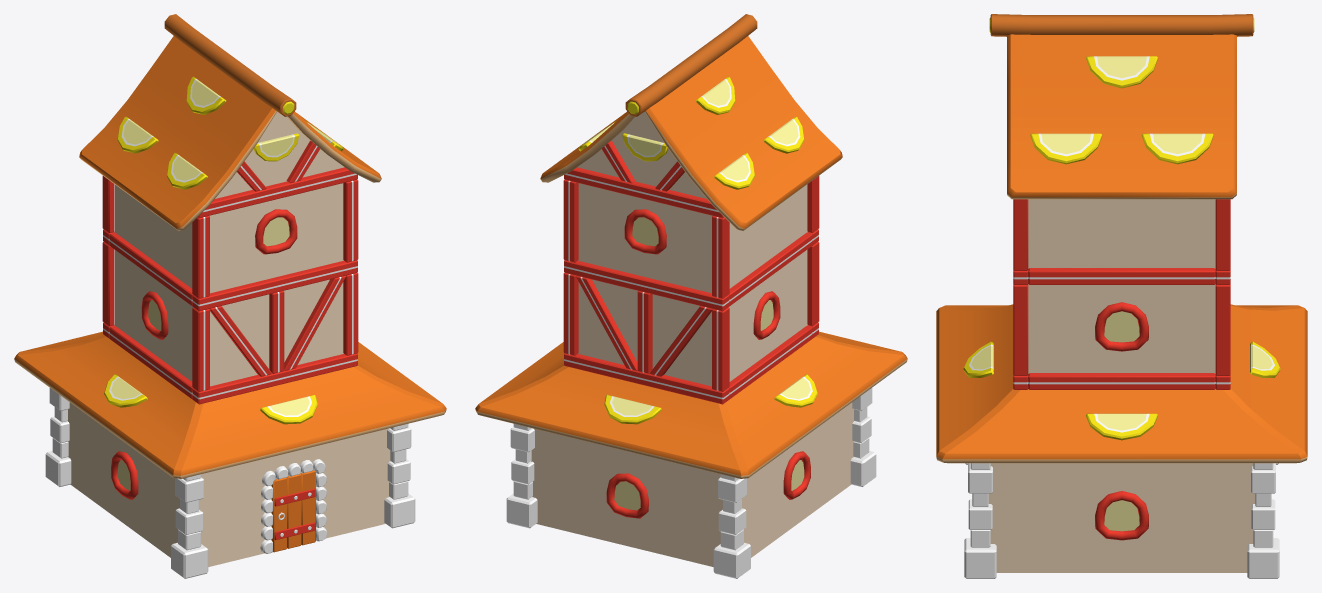
File: House_9.fbx
The picture shows the model from 3 angles, left to right: view 1: azimuth 30°, elevation 25°; view 2: azimuth 150°, elevation 25°; view 3: azimuth 270°, elevation 25°; orthographic projection. The views are drawn at different scales.
Visible parts, largest first — view 1: House_9; view 2: House_9; view 3: House_9.
Part boxes in pixels (x1,y1,x2,y2): House_9: [14, 14, 446, 578]; House_9: [475, 14, 907, 578]; House_9: [936, 14, 1307, 578].
Size of the model in its own units: 8.95 by 13.87 by 9.33.
